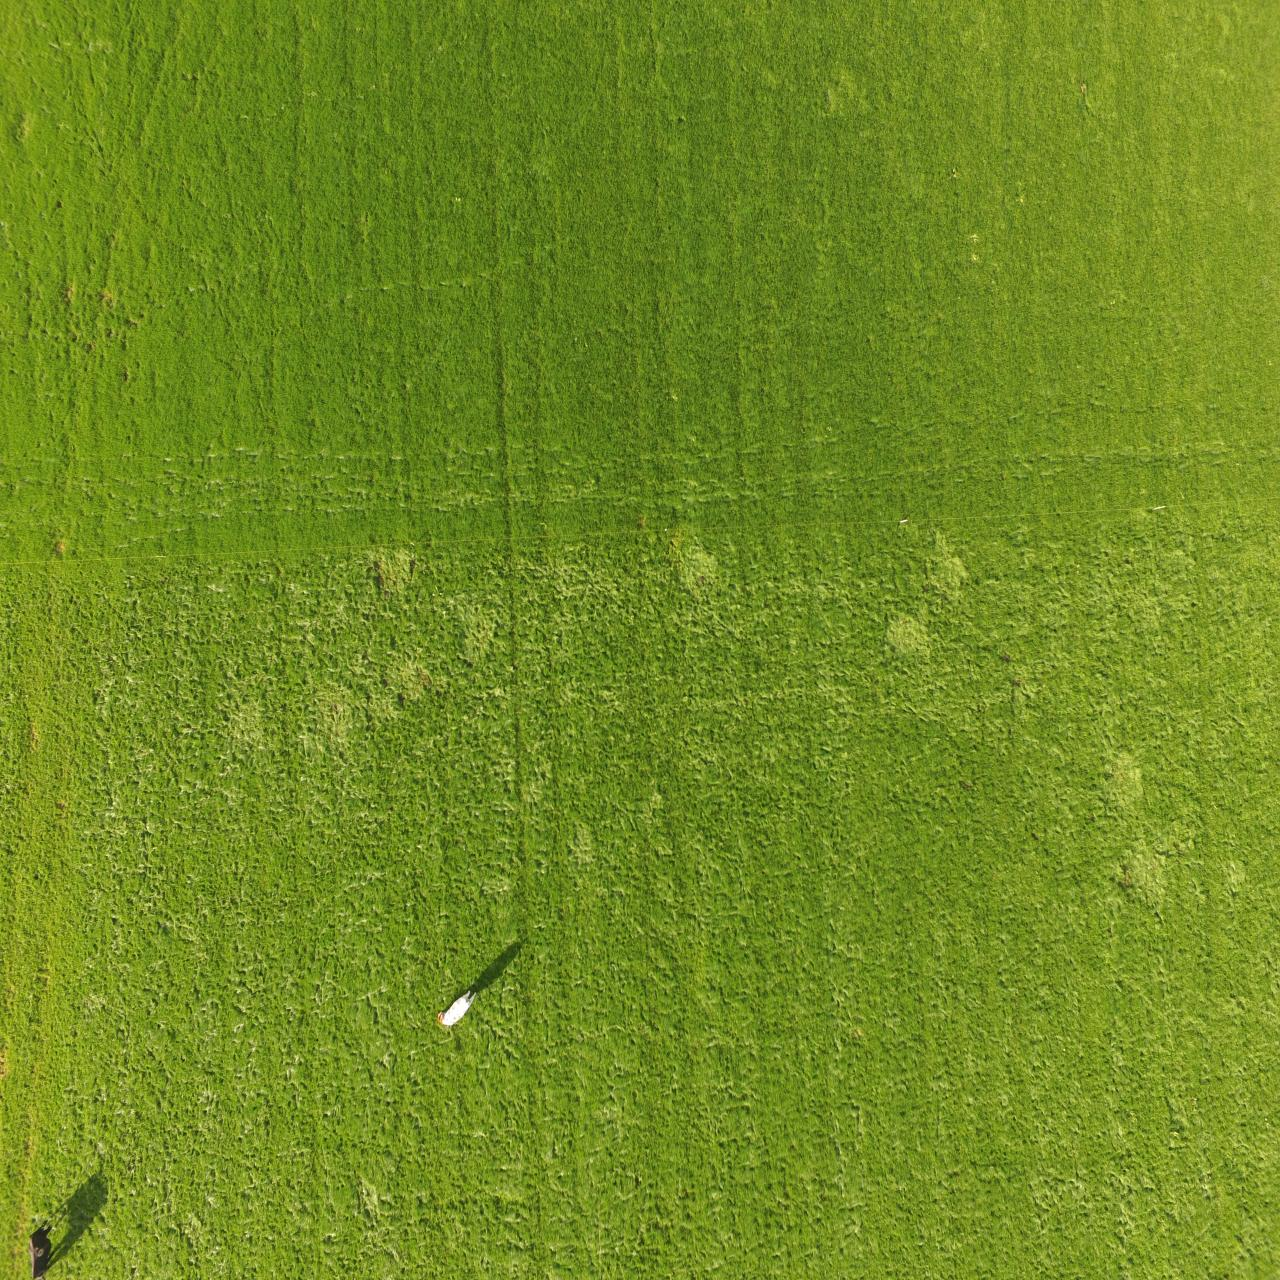cow: (27, 1214, 60, 1280), (436, 988, 478, 1027)
